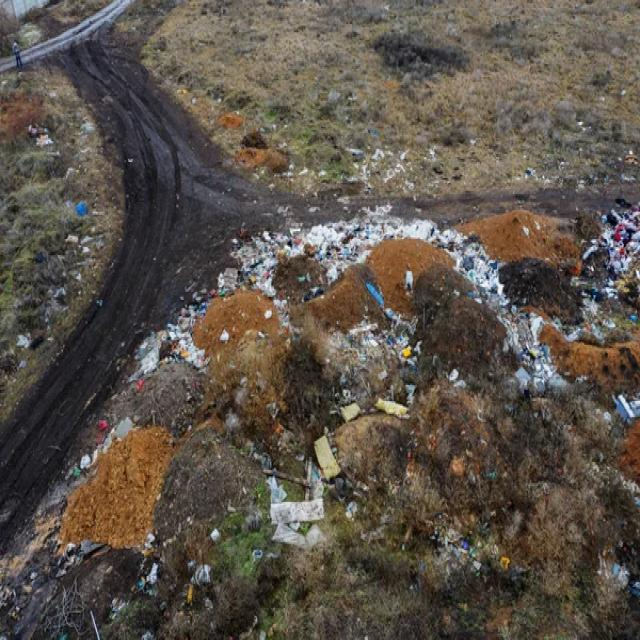garbage: (152, 181, 640, 466)
